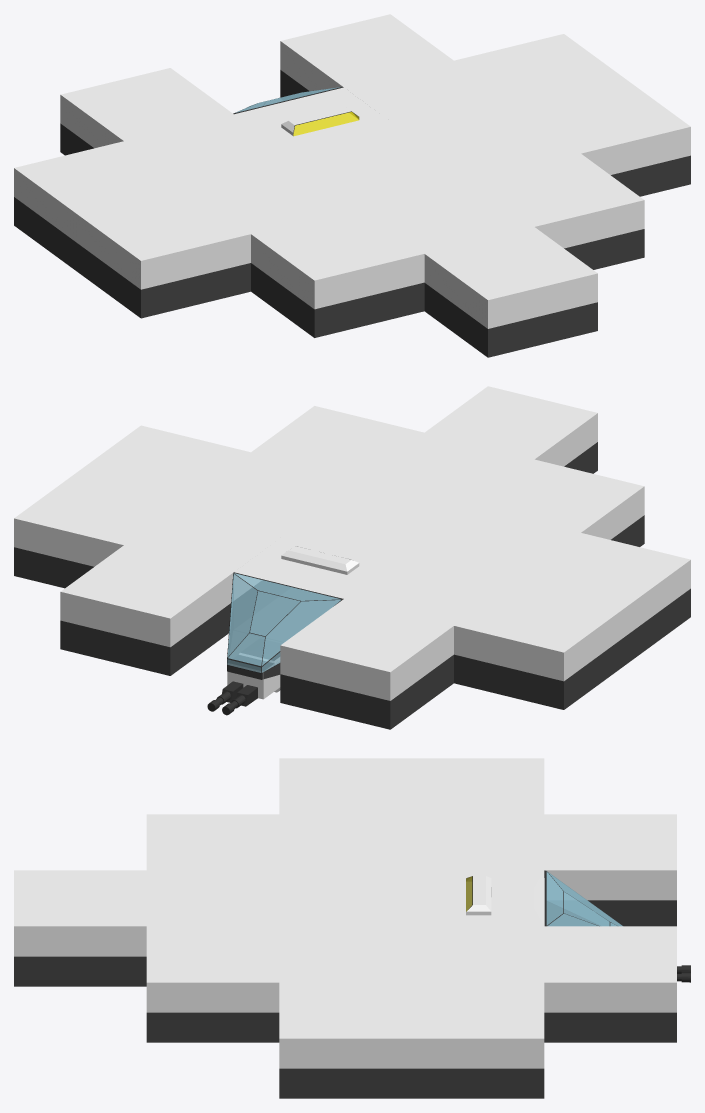
Rendered from Joueur.fbx.
3 views of the same model, one above another, from view 1: azimuth 30°, elevation 25°; view 2: azimuth 150°, elevation 25°; view 3: azimuth 270°, elevation 25° (orthographic). The views are drawn at different scales.
Parts seen in each view (by area): view 1: Cube.016, Cube.008, Cube.014, Cube.007, Cube.015, Cube.011, Cube.012, Cube.013, Cube.002, Cube.005, Cube.004, Cube.009 (+5 smaller); view 2: Cube.012, Cube.011, Cube.013, Vaisseau, Cube.010, Cube.016, Cube.008, Cube.014, Cube.005, Cube.009, Cube.015, Cube.003 (+6 smaller); view 3: Cube.007, Cube.010, Cube.013, Cube.014, Cube.015, Cube.012, Vaisseau, Cube.005, Cube.004, Cube.009, Cube.011, Cube.008 (+5 smaller).
Part boxes in pixels (bbox=[...]): Cube.016: bbox=[77, 187, 250, 318]; Cube.008: bbox=[251, 207, 424, 337]; Cube.014: bbox=[424, 227, 597, 357]; Cube.007: bbox=[471, 153, 644, 269]; Cube.015: bbox=[518, 80, 690, 196]; Cube.011: bbox=[14, 141, 186, 271]; Cube.012: bbox=[60, 68, 233, 155]; Cube.013: bbox=[280, 14, 453, 97]; Cube.002: bbox=[408, 107, 580, 180]; Cube.005: bbox=[344, 60, 516, 133]; Cube.004: bbox=[124, 114, 296, 187]; Cube.009: bbox=[361, 180, 533, 253]; Cube.012: bbox=[280, 599, 453, 729]; Cube.011: bbox=[454, 579, 627, 709]; Cube.013: bbox=[60, 545, 233, 675]; Vaisseau: bbox=[227, 525, 406, 679]; Cube.010: bbox=[14, 472, 186, 588]; Cube.016: bbox=[518, 533, 690, 663]; Cube.008: bbox=[471, 459, 644, 546]; Cube.014: bbox=[425, 386, 597, 473]; Cube.005: bbox=[124, 499, 296, 628]; Cube.009: bbox=[361, 432, 534, 505]; Cube.015: bbox=[78, 425, 250, 498]; Cube.003: bbox=[408, 506, 580, 579]; Cube.007: bbox=[146, 926, 279, 1042]; Cube.010: bbox=[411, 982, 544, 1098]; Cube.013: bbox=[544, 926, 676, 1042]; Cube.014: bbox=[14, 870, 146, 986]; Cube.015: bbox=[279, 982, 411, 1098]; Cube.012: bbox=[544, 814, 676, 926]; Vaisseau: bbox=[411, 870, 622, 926]; Cube.005: bbox=[411, 926, 544, 982]; Cube.004: bbox=[411, 814, 544, 870]; Cube.009: bbox=[146, 870, 279, 926]; Cube.011: bbox=[411, 758, 544, 814]; Cube.008: bbox=[146, 814, 279, 870].
Bounding box in the file's own units: 10 × 10.21 × 1.66.
